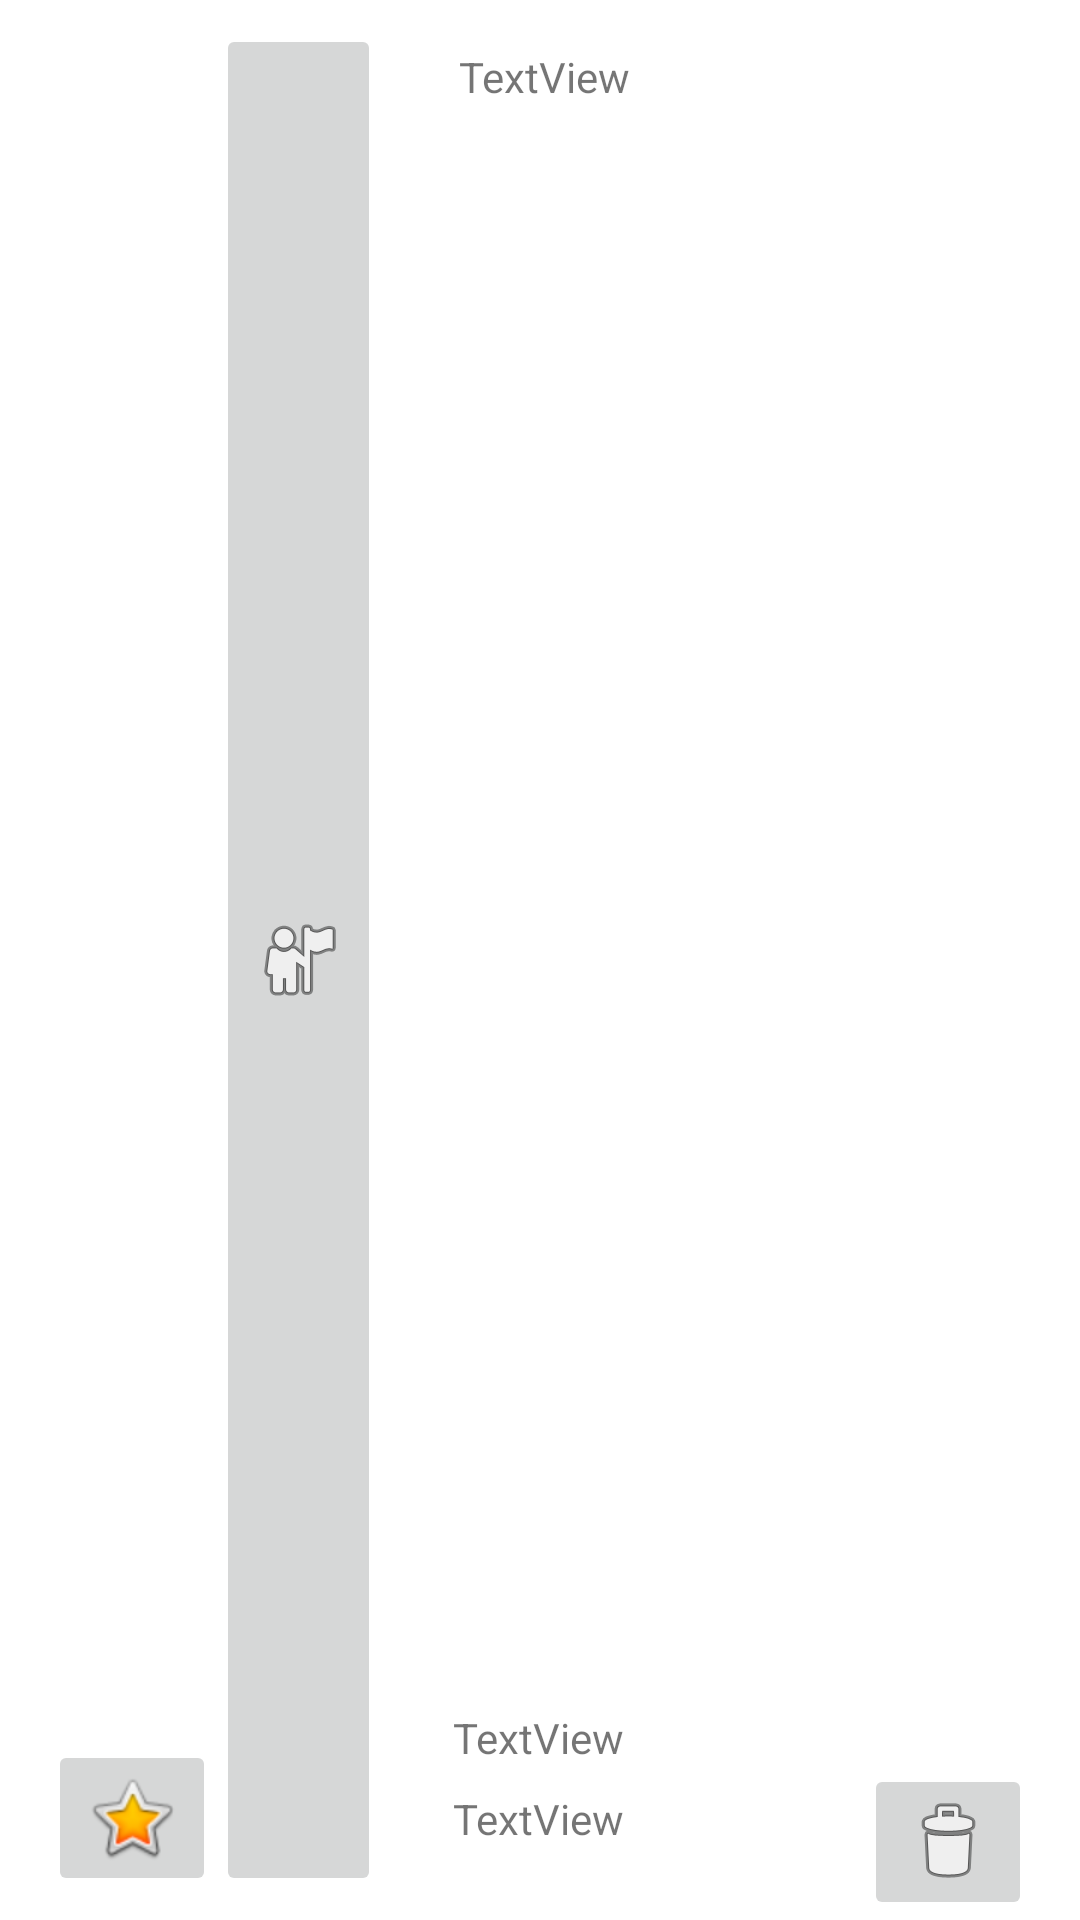

Where to tap for icons on this 1080 × 1920 app screen, as (x=x, y=y):
delet task: (x=948, y=1842)
